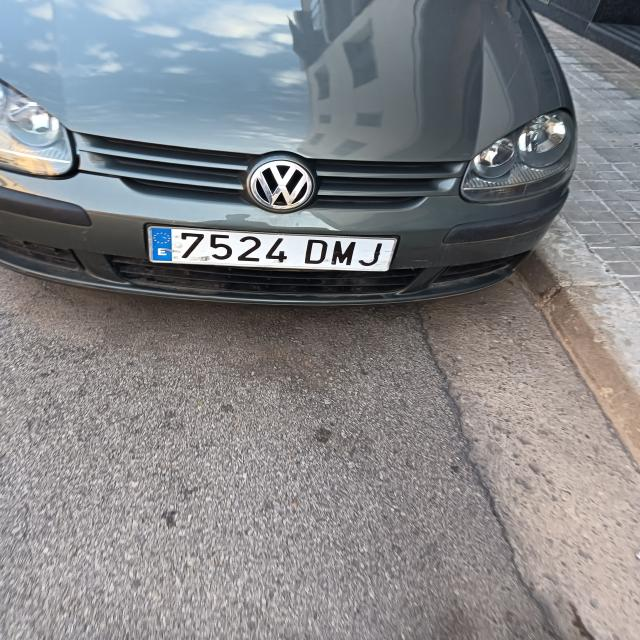license_plate-34Td: (148, 226, 397, 271)
